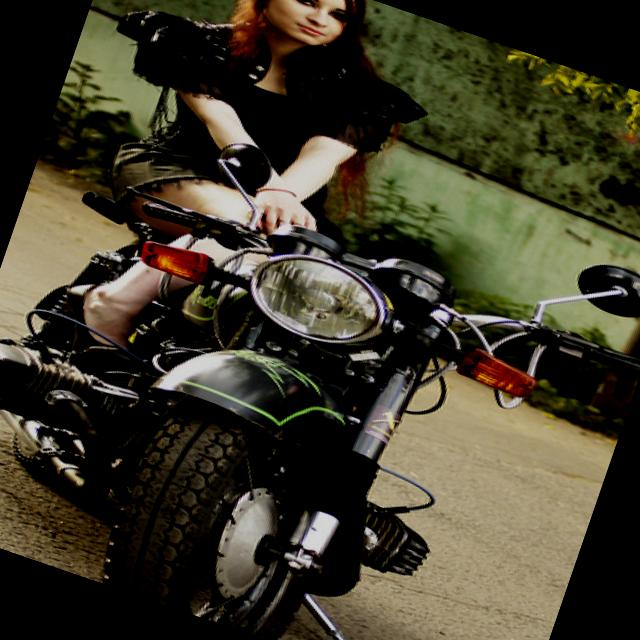Vehicle: (19, 107, 640, 640)
